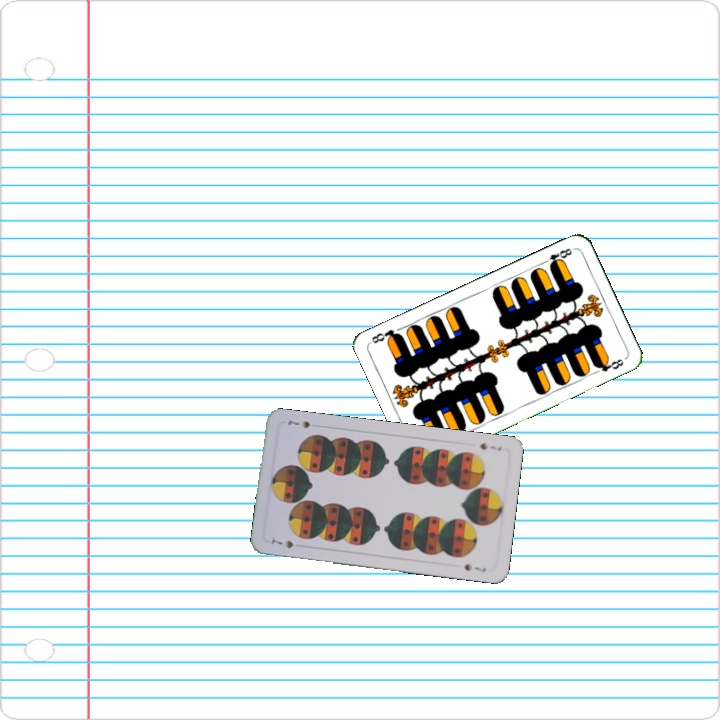E8: (538, 244, 575, 270)
S7: (267, 535, 296, 551), (476, 439, 504, 453)
